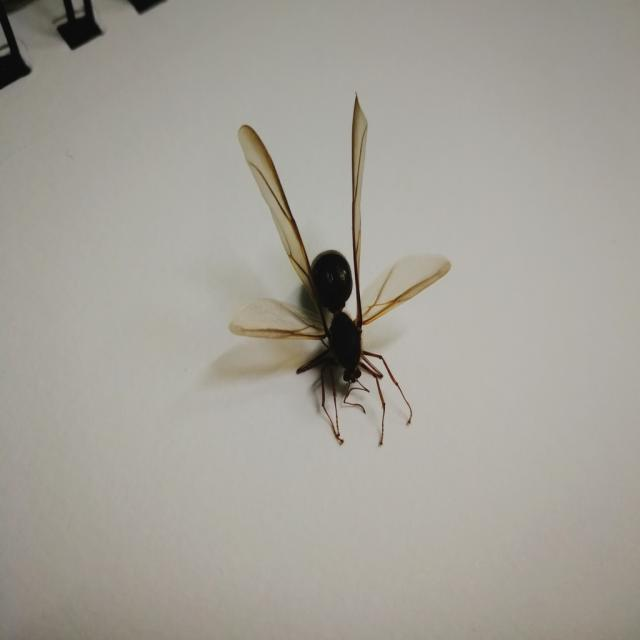Dead-Male-Alate: (228, 91, 452, 446)
